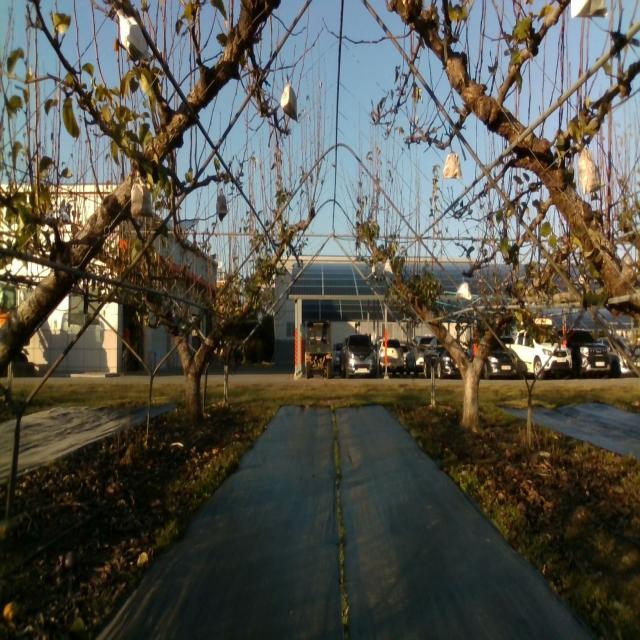pearbags: (116, 8, 151, 62), (577, 147, 605, 196), (131, 168, 152, 219), (280, 77, 298, 121), (442, 146, 462, 180), (454, 276, 472, 302), (216, 188, 228, 222)
